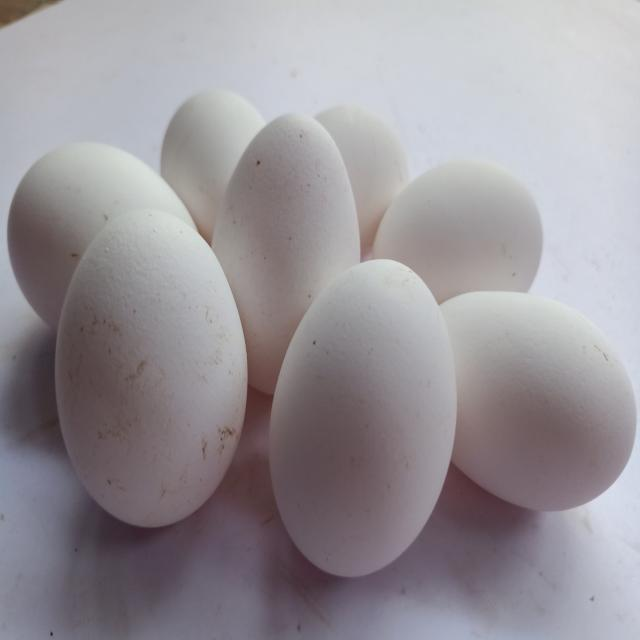Egg: (55, 208, 247, 527), (269, 259, 457, 577), (440, 291, 637, 511), (211, 113, 361, 394), (6, 142, 197, 329), (373, 160, 543, 303), (160, 89, 265, 244), (315, 104, 409, 256)
